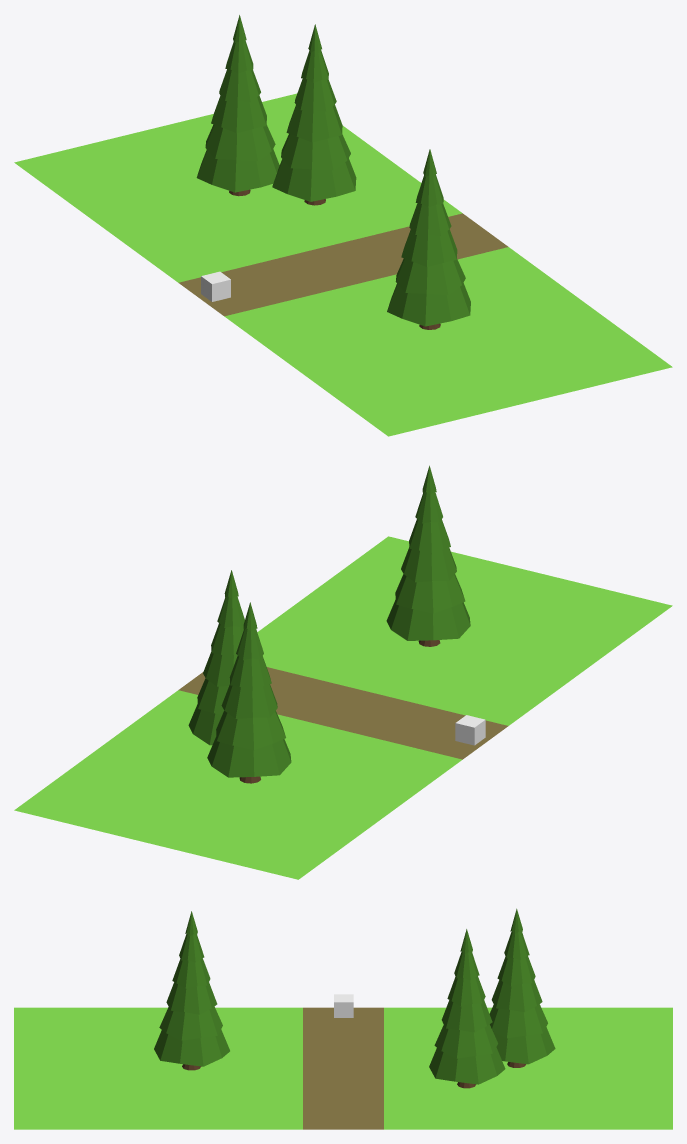
The model's file is map.glb.
3 views of the same model, one above another, from view 1: azimuth 30°, elevation 25°; view 2: azimuth 150°, elevation 25°; view 3: azimuth 270°, elevation 25° (orthographic). The views are drawn at different scales.
Visible parts, largest first — view 1: Plane001, Plane, Plane002, Cylinder010, Cylinder009, Cylinder011, Box; view 2: Plane, Plane001, Plane002, Cylinder010, Cylinder011, Cylinder009, Box; view 3: Plane001, Plane, Plane002, Cylinder010, Cylinder009, Cylinder011, Box.
Part boxes in pixels (x1,y1,x2,y2): Plane001: [224, 247, 672, 436]; Plane: [14, 93, 462, 282]; Plane002: [178, 213, 508, 316]; Cylinder010: [387, 149, 470, 326]; Cylinder009: [272, 24, 356, 201]; Cylinder011: [196, 15, 279, 192]; Box: [201, 271, 230, 301]; Plane: [14, 690, 462, 879]; Plane001: [257, 536, 672, 725]; Plane002: [178, 667, 508, 759]; Cylinder010: [386, 465, 470, 640]; Cylinder011: [207, 602, 291, 777]; Cylinder009: [188, 570, 244, 745]; Box: [455, 715, 485, 745]; Plane001: [14, 1007, 302, 1129]; Plane: [384, 1007, 672, 1129]; Plane002: [303, 1007, 383, 1129]; Cylinder010: [154, 911, 229, 1066]; Cylinder009: [429, 929, 505, 1084]; Cylinder011: [489, 908, 555, 1064]; Box: [334, 994, 353, 1017].
Bounding box in the file's own units: 14.91 × 9.1 × 33.98.
